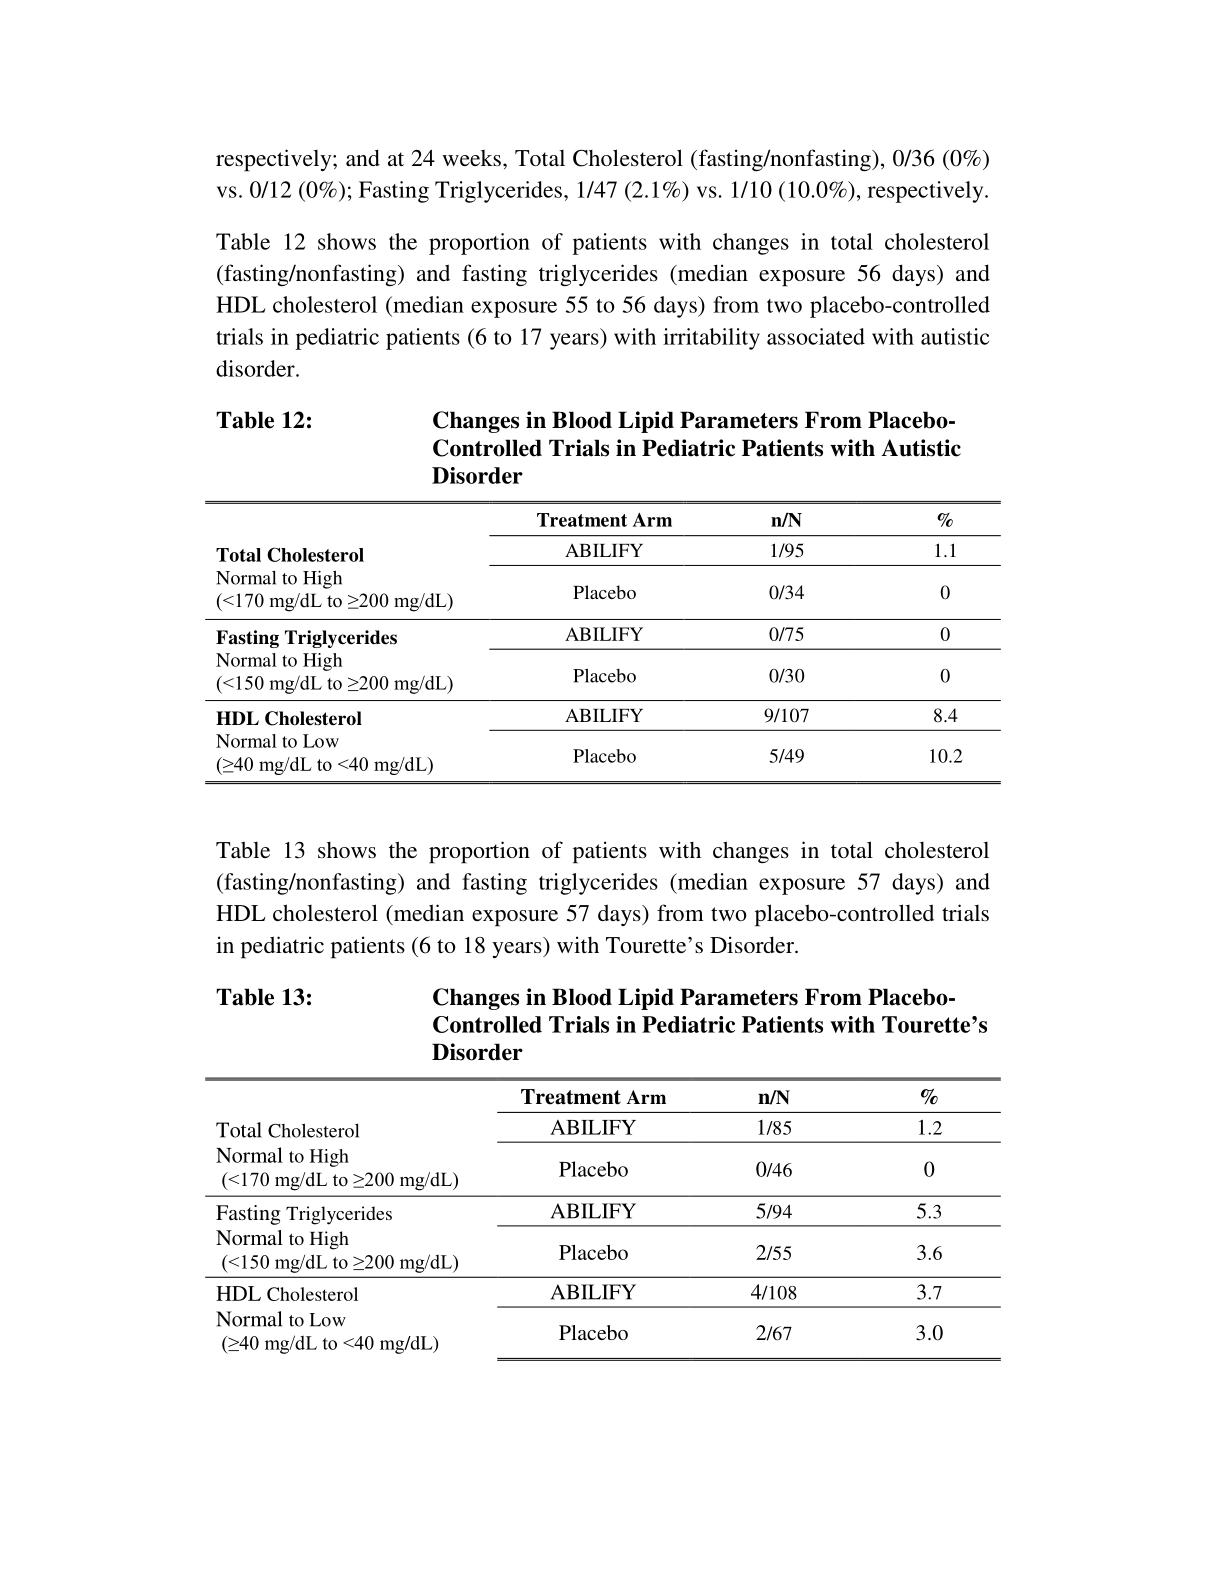partial_lined: (203, 500, 1002, 786), (204, 1077, 1002, 1362)
